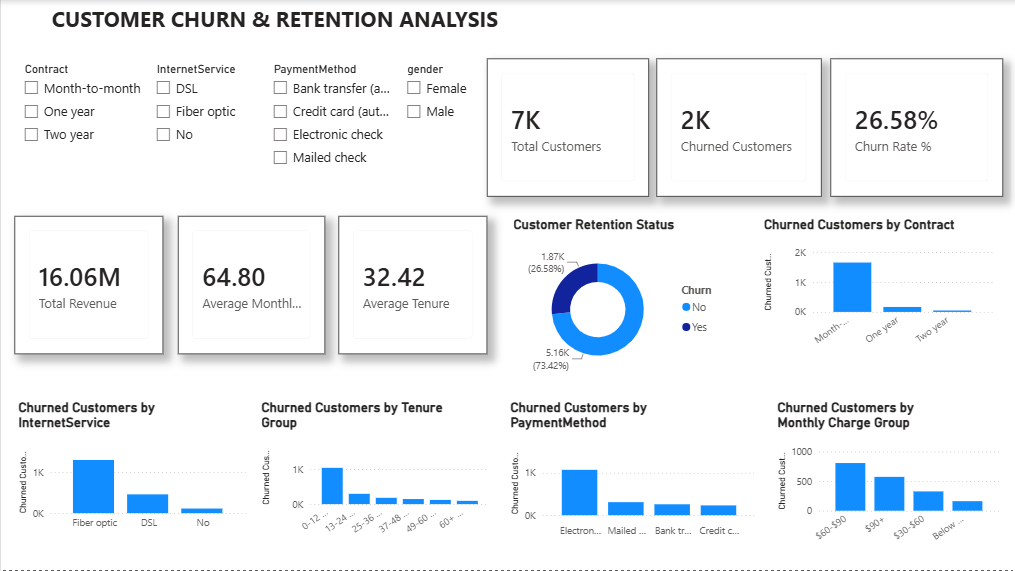

What the dashboard file says about the page in this screenshot:
{"tool":"powerbi","page":{"name":"Page 1","canvas":[1280,720],"ordinal":0},"visuals":[{"type":"cardVisual","fields":{"Data":["Telco-Customer-Churn.Total Customers"]},"box":[612.3,73.7,204.1,173.9],"z":0},{"type":"clusteredColumnChart","fields":{"Y":["Telco-Customer-Churn.Churned Customers"],"Category":["Telco-Customer-Churn.Contract"]},"box":[956.2,272.1,298.6,173.9],"z":1000},{"type":"cardVisual","fields":{"Data":["Telco-Customer-Churn.Churned Customers"]},"box":[825.8,73.7,207.9,173.9],"z":2000},{"type":"cardVisual","fields":{"Data":["Telco-Customer-Churn.Churn Rate %"]},"box":[1045,73.7,217.3,173.9],"z":3000},{"type":"cardVisual","fields":{"Data":["Telco-Customer-Churn.Total Revenue"]},"box":[17,272.1,187.1,173.9],"z":4000},{"type":"cardVisual","fields":{"Data":["Telco-Customer-Churn.Average Monthly Charges"]},"box":[223,272.1,185.2,173.9],"z":5000},{"type":"cardVisual","fields":{"Data":["Telco-Customer-Churn.Average Tenure"]},"box":[425.2,272.1,187.1,173.9],"z":6000},{"type":"clusteredColumnChart","title":"Churned Customers by InternetService","fields":{"Y":["Telco-Customer-Churn.Churned Customers"],"Category":["Telco-Customer-Churn.InternetService"]},"box":[17,502.7,296.7,173.9],"z":7000},{"type":"clusteredColumnChart","fields":{"Y":["Telco-Customer-Churn.Churned Customers"],"Category":["Telco-Customer-Churn.Tenure Group"]},"box":[323.2,502.7,296.7,181.4],"z":8000},{"type":"clusteredColumnChart","fields":{"Y":["Telco-Customer-Churn.Churned Customers"],"Category":["Telco-Customer-Churn.Monthly Charge Group"]},"box":[973.2,502.7,289.1,192.8],"z":9000},{"type":"clusteredColumnChart","fields":{"Y":["Telco-Customer-Churn.Churned Customers"],"Category":["Telco-Customer-Churn.PaymentMethod"]},"box":[636.9,502.7,319.4,181.4],"z":10000},{"type":"donutChart","title":"Customer Retention Status","fields":{"Category":["Telco-Customer-Churn.Churn"],"Y":["CountNonNull(Telco-Customer-Churn.customerID)"]},"box":[640.6,272.1,279.7,204.1],"z":11000},{"type":"textbox","box":[0,0,674.7,49.1],"z":12000},{"type":"slicer","fields":{"Values":["Telco-Customer-Churn.Contract"]},"box":[17,73.7,166.3,158.7],"z":13000},{"type":"slicer","fields":{"Values":["Telco-Customer-Churn.PaymentMethod"]},"box":[330.7,73.7,168.2,158.7],"z":14000},{"type":"slicer","fields":{"Values":["Telco-Customer-Churn.InternetService"]},"box":[183.3,73.7,147.4,132.3],"z":15000},{"type":"slicer","fields":{"Values":["Telco-Customer-Churn.gender"]},"box":[498.9,73.7,100.2,100.2],"z":16000}]}

Visuals, with their boxes in screenshot pixels (x1, y1, x2, y2), scaled from the page's 1280x720 canvas onto the 1015x571 screenshot:
cardVisual - Telco-Customer-Churn.Total Customers: 486/58/647/196
clusteredColumnChart - Telco-Customer-Churn.Churned Customers x Telco-Customer-Churn.Contract: 758/216/995/354
cardVisual - Telco-Customer-Churn.Churned Customers: 655/58/820/196
cardVisual - Telco-Customer-Churn.Churn Rate %: 829/58/1001/196
cardVisual - Telco-Customer-Churn.Total Revenue: 13/216/162/354
cardVisual - Telco-Customer-Churn.Average Monthly Charges: 177/216/324/354
cardVisual - Telco-Customer-Churn.Average Tenure: 337/216/486/354
"Churned Customers by InternetService" clusteredColumnChart: 13/399/249/537
clusteredColumnChart - Telco-Customer-Churn.Churned Customers x Telco-Customer-Churn.Tenure Group: 256/399/492/543
clusteredColumnChart - Telco-Customer-Churn.Churned Customers x Telco-Customer-Churn.Monthly Charge Group: 772/399/1001/552
clusteredColumnChart - Telco-Customer-Churn.Churned Customers x Telco-Customer-Churn.PaymentMethod: 505/399/758/543
"Customer Retention Status" donutChart: 508/216/730/378
textbox: 0/0/535/39
slicer - Telco-Customer-Churn.Contract: 13/58/145/184
slicer - Telco-Customer-Churn.PaymentMethod: 262/58/396/184
slicer - Telco-Customer-Churn.InternetService: 145/58/262/163
slicer - Telco-Customer-Churn.gender: 396/58/475/138
